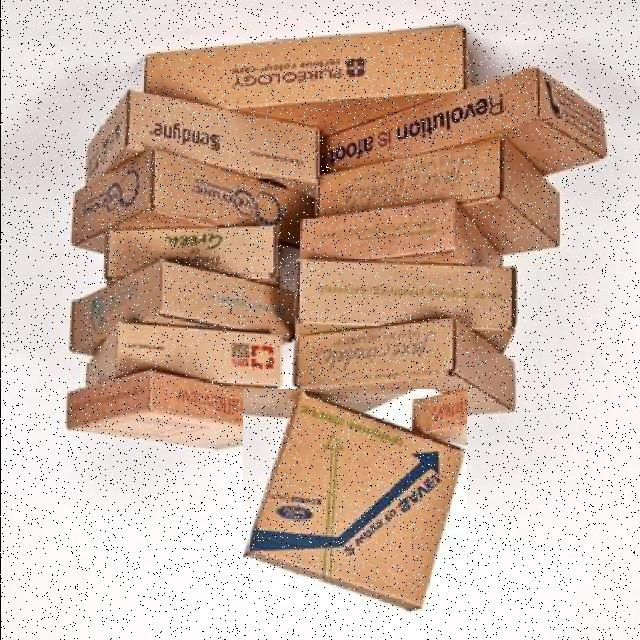normal: (242, 389, 466, 614)
